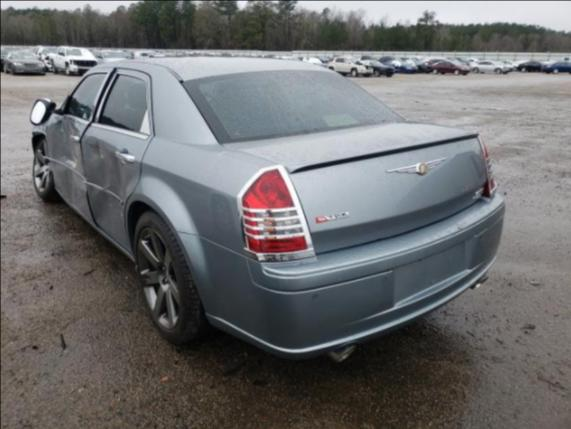Broken part: (78, 67, 118, 225), (31, 137, 51, 192), (30, 97, 62, 125)
Dent: (33, 115, 92, 222), (83, 135, 135, 250)
Missing part: (396, 244, 465, 303)
